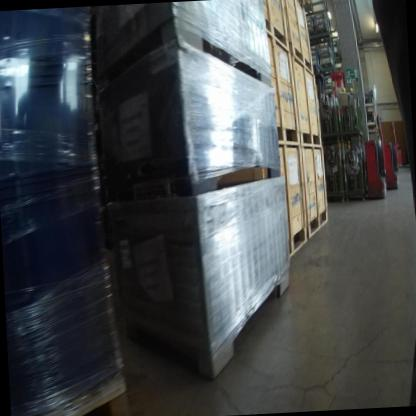pallet: (30, 368, 136, 416), (297, 1, 313, 18), (316, 29, 331, 46), (320, 62, 339, 75), (307, 27, 318, 48)
pallet_truck: (362, 111, 388, 201), (379, 119, 399, 191)
